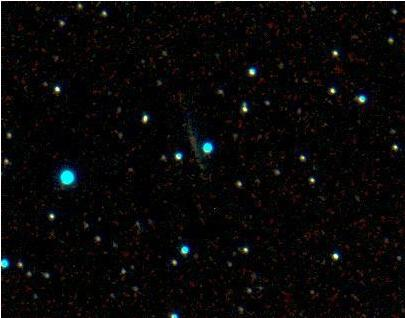star: (23, 0, 53, 29)
